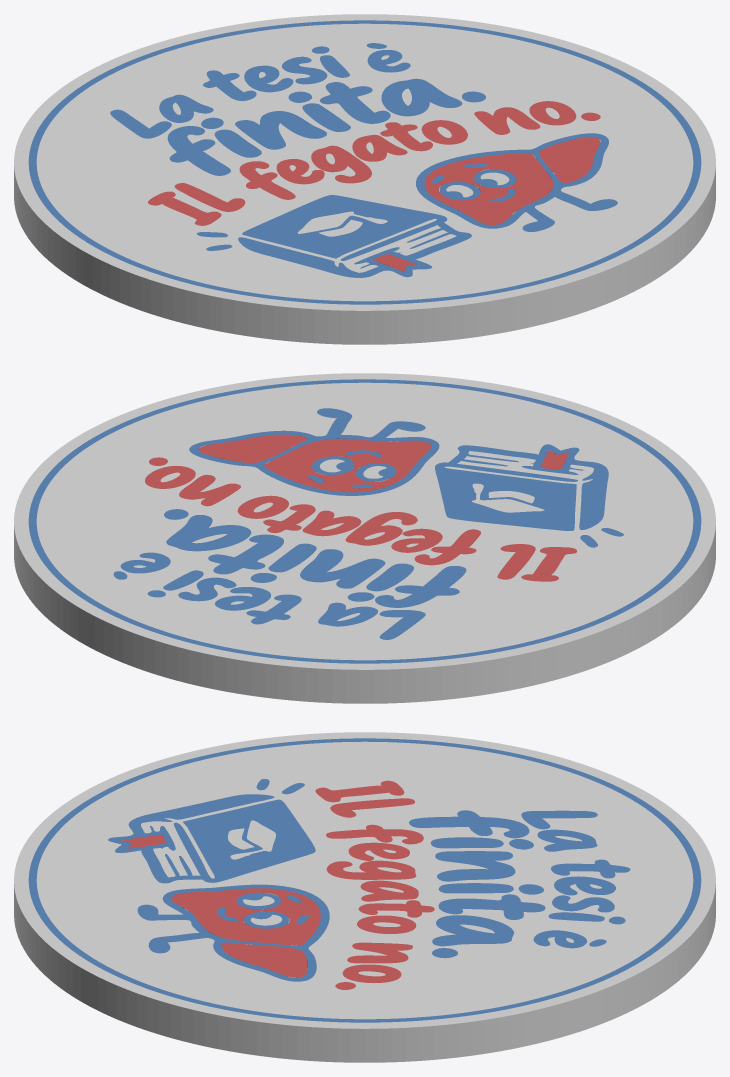
Rendered from sottobicchiere-tesi-finita-fegato.glb.
The picture shows the model from 3 angles, top to bottom: view 1: azimuth 30°, elevation 25°; view 2: azimuth 150°, elevation 25°; view 3: azimuth 270°, elevation 25°; orthographic projection.
Visible parts, largest first — view 1: coaster_base, coaster_ink, coaster_accent; view 2: coaster_base, coaster_ink, coaster_accent; view 3: coaster_base, coaster_ink, coaster_accent.
Part boxes in pixels (<box>): coaster_base: <box>14,14,715,344</box>; coaster_ink: <box>28,20,701,304</box>; coaster_accent: <box>148,101,600,271</box>; coaster_base: <box>14,373,715,703</box>; coaster_ink: <box>28,379,701,663</box>; coaster_accent: <box>145,434,576,581</box>; coaster_base: <box>14,732,715,1062</box>; coaster_ink: <box>28,738,701,1022</box>; coaster_accent: <box>121,780,434,989</box>.
Bounding box in the file's own units: 0.075 × 0.004 × 0.075.
